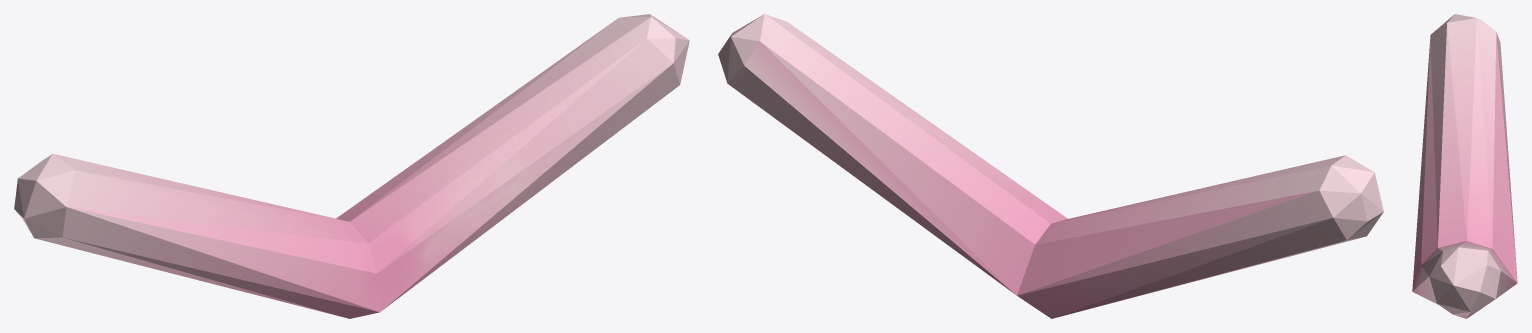
The model's file is mouth_tic.dae.
3 renders of one model, left to right at view 1: azimuth 30°, elevation 25°; view 2: azimuth 150°, elevation 25°; view 3: azimuth 270°, elevation 25°, orthographic. The views are drawn at different scales.
Visible parts, largest first — view 1: mouth_tic; view 2: mouth_tic; view 3: mouth_tic.
Boxes of the visible parts, x1,y1,x2,y2 form: mouth_tic: [14, 14, 689, 318]; mouth_tic: [718, 14, 1383, 318]; mouth_tic: [1412, 14, 1517, 318].
Bounding box in the file's own units: 0.4987 × 0.0851 × 0.1677.
1 material, 1 textured.
